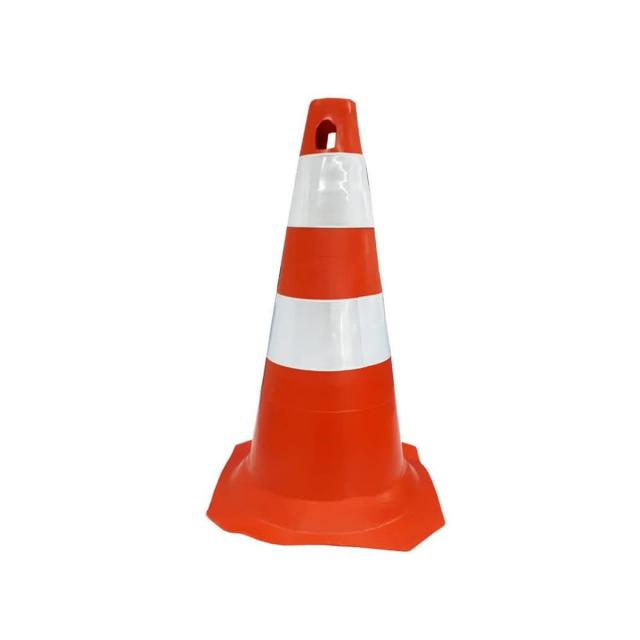cone: (157, 73, 517, 569)
